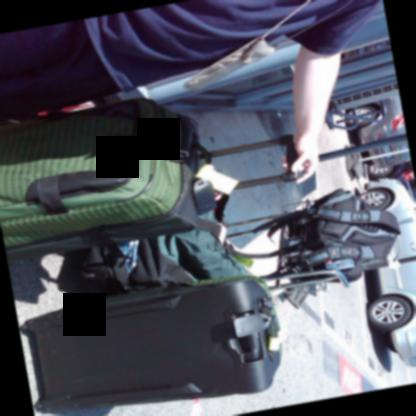backpack: (283, 188, 400, 275)
handbag: (178, 0, 311, 90)
suitcase: (0, 95, 297, 264), (19, 277, 283, 401), (77, 211, 251, 298)
